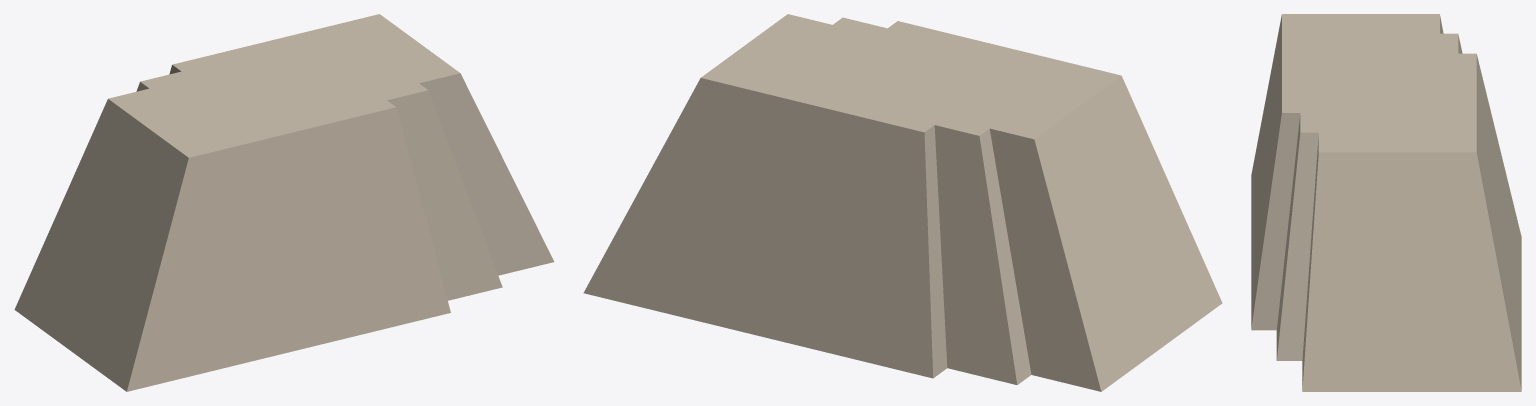
3 views of the same model, side by side, from view 1: azimuth 30°, elevation 25°; view 2: azimuth 150°, elevation 25°; view 3: azimuth 270°, elevation 25° (orthographic). The views are drawn at different scales.
Size of the model in its own units: 14 by 6 by 7.4.
